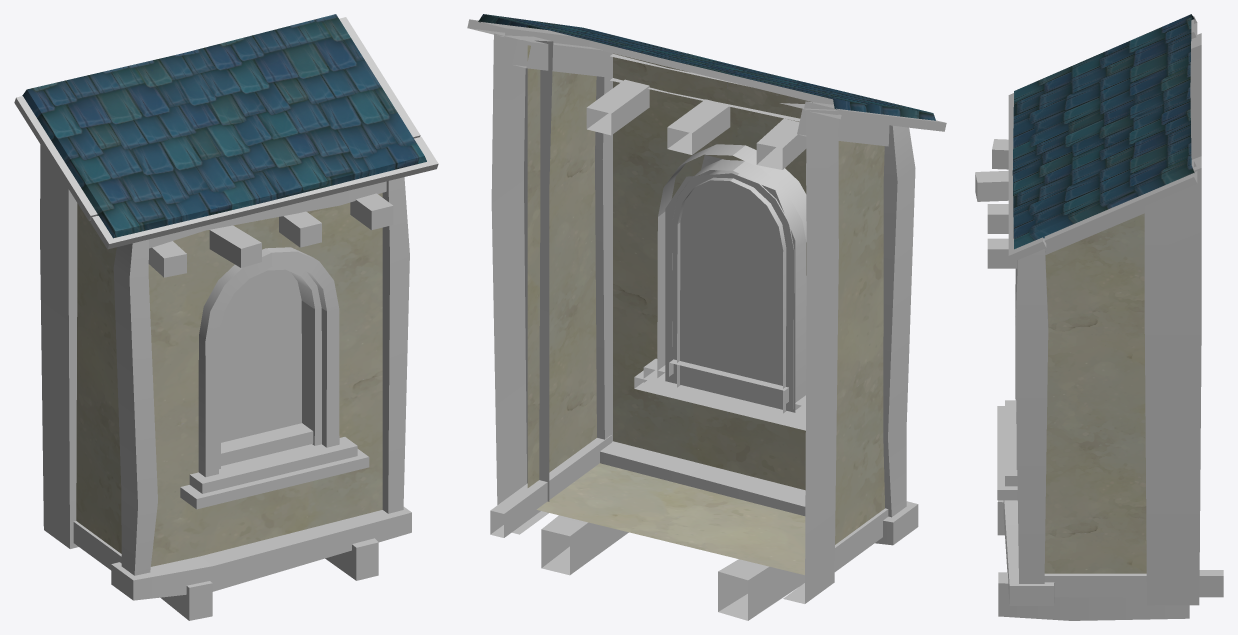
The model's file is A_Addon_Window_G.fbx.
The picture shows the model from 3 angles, left to right: view 1: azimuth 30°, elevation 25°; view 2: azimuth 150°, elevation 25°; view 3: azimuth 270°, elevation 25°; orthographic projection. The views are drawn at different scales.
Visible parts, largest first — view 1: A_Addon_Window_G_KitParts, A_Addon_Window_G_Tiles, A_Addon_Window_G; view 2: A_Addon_Window_G_KitParts, A_Addon_Window_G, A_Addon_Window_G_Tiles; view 3: A_Addon_Window_G_KitParts, A_Addon_Window_G, A_Addon_Window_G_Tiles.
Boxes of the visible parts, x1,y1,x2,y2 form: A_Addon_Window_G_KitParts: [14, 17, 438, 620]; A_Addon_Window_G_Tiles: [22, 14, 426, 238]; A_Addon_Window_G: [76, 193, 382, 566]; A_Addon_Window_G_KitParts: [467, 19, 946, 620]; A_Addon_Window_G: [527, 45, 884, 575]; A_Addon_Window_G_Tiles: [478, 14, 935, 120]; A_Addon_Window_G_KitParts: [975, 16, 1223, 620]; A_Addon_Window_G: [1044, 213, 1146, 573]; A_Addon_Window_G_Tiles: [1012, 14, 1194, 249].
Size of the model in its own units: 194 by 269 by 127.
